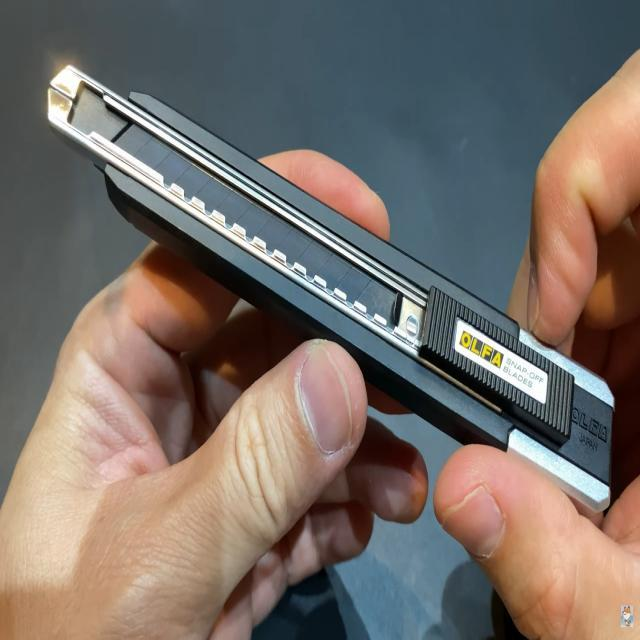cutter: (10, 3, 640, 570)
